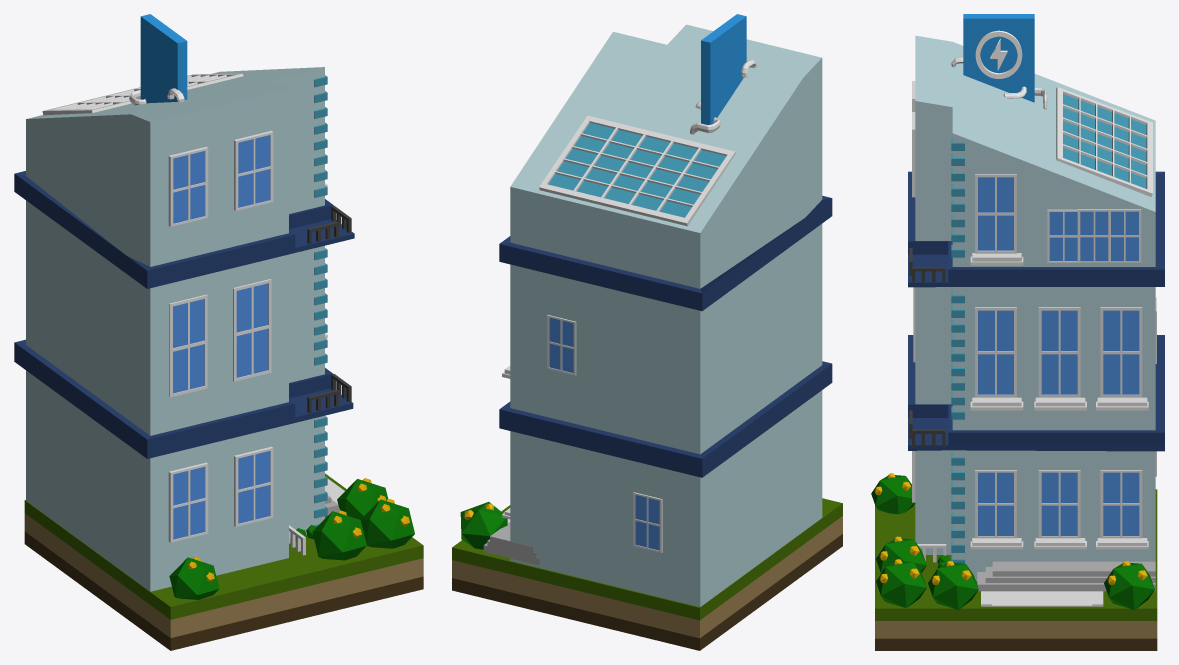
File: recycle apartment_merge.fbx
3 renders of one model, left to right at view 1: azimuth 30°, elevation 25°; view 2: azimuth 150°, elevation 25°; view 3: azimuth 270°, elevation 25°, orthographic. The views are drawn at different scales.
Visible parts, largest first — view 1: recycle apartment; view 2: recycle apartment; view 3: recycle apartment.
Boxes of the visible parts, x1,y1,x2,y2 form: recycle apartment: [14, 14, 423, 650]; recycle apartment: [452, 14, 842, 650]; recycle apartment: [871, 14, 1164, 650].
Bounding box in the file's own units: 217 × 442 × 217.
